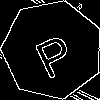P: (27, 25, 79, 81)
